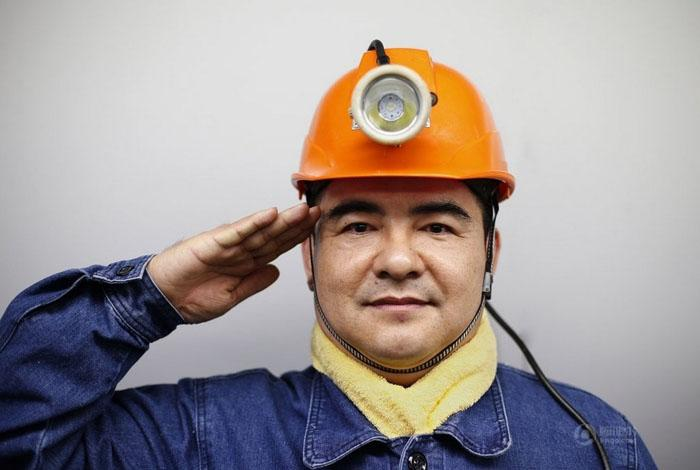helmet: (290, 45, 519, 200)
